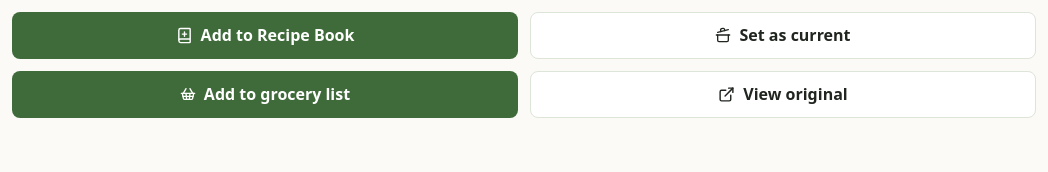
Scenario: RecipePreviewActions › saves the preview without taking the user away from its actions
Step 1. Click the button "Add to Recipe Book" → (265, 35), box [12,12,518,59]
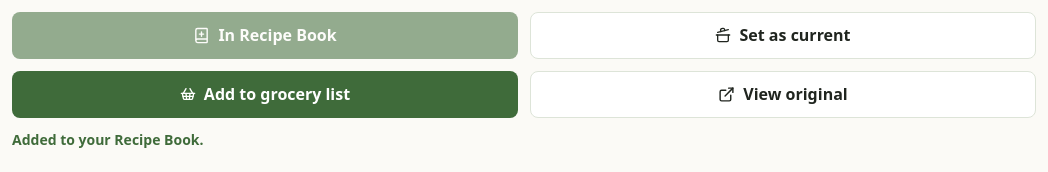
Expected: the button "In Recipe Book" is disabled, [12,12,518,59]
Expected: the message shows "Added to your Recipe Book", [12,130,204,149]
